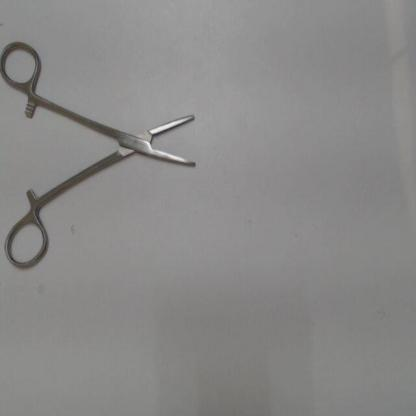Mayo Needle Holder: (2, 34, 214, 276)
